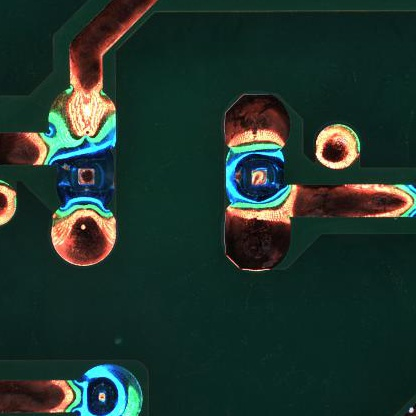spot: (51, 140, 118, 211), (224, 144, 291, 212), (80, 360, 141, 416)
